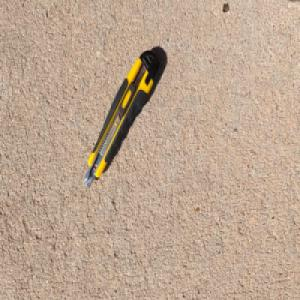Cutter: (82, 46, 161, 188)
